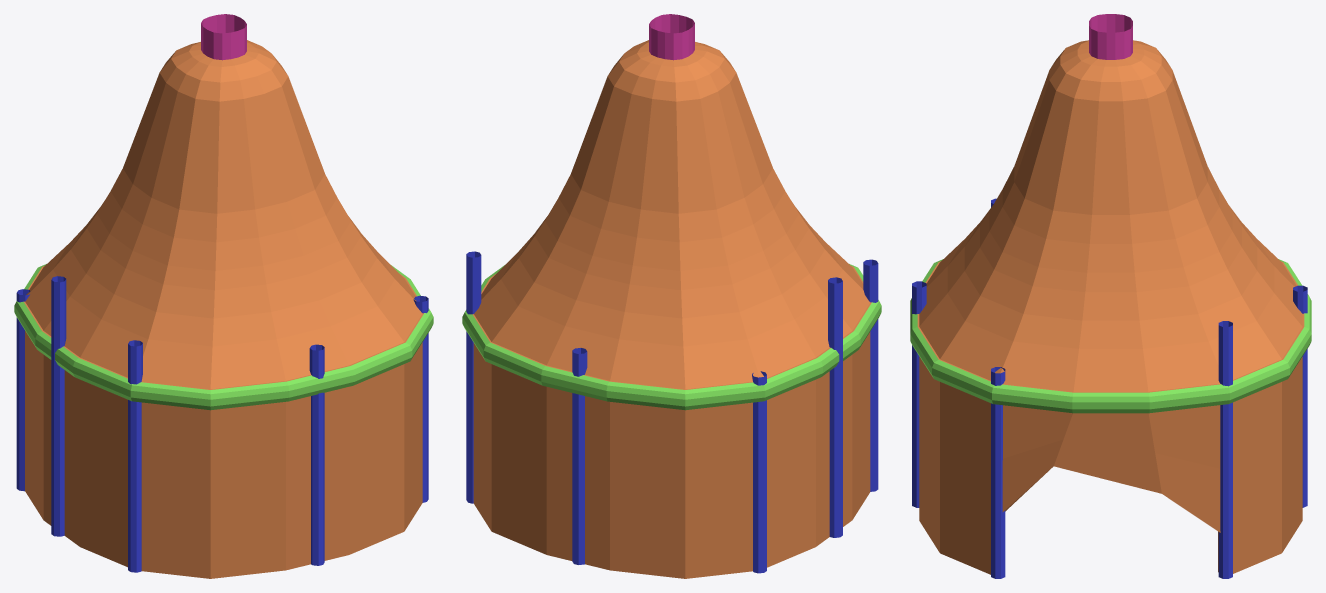
Rendered from DruidTent.fbx.
3 views of the same model, side by side, from view 1: azimuth 30°, elevation 25°; view 2: azimuth 150°, elevation 25°; view 3: azimuth 270°, elevation 25° (orthographic). The views are drawn at different scales.
Parts seen in each view (by area): view 1: Tent, Pole.005, Pole.004, Pole.006, Pole.001, Pole; view 2: Tent, Pole.005, Pole.003, Pole.001, Pole.002, Pole.004; view 3: Tent, Pole.002, Pole, Pole.006, Pole.003.
Boxes of the visible parts, x1,y1,x2,y2 form: Tent: (14, 14, 433, 578); Pole.005: (51, 276, 66, 536); Pole.004: (128, 340, 142, 572); Pole.006: (309, 344, 324, 565); Pole.001: (16, 289, 30, 491); Pole: (413, 295, 428, 502); Tent: (462, 14, 881, 578); Pole.005: (828, 277, 842, 537); Pole.003: (572, 348, 587, 564); Pole.001: (752, 371, 766, 573); Pole.002: (466, 251, 481, 503); Pole.004: (863, 259, 878, 491); Tent: (910, 14, 1311, 574); Pole.002: (1218, 321, 1232, 578); Pole: (991, 367, 1005, 578); Pole.006: (912, 281, 926, 507); Pole.003: (1293, 285, 1307, 507).
Bounding box in the file's own units: 630 × 835 × 629.
